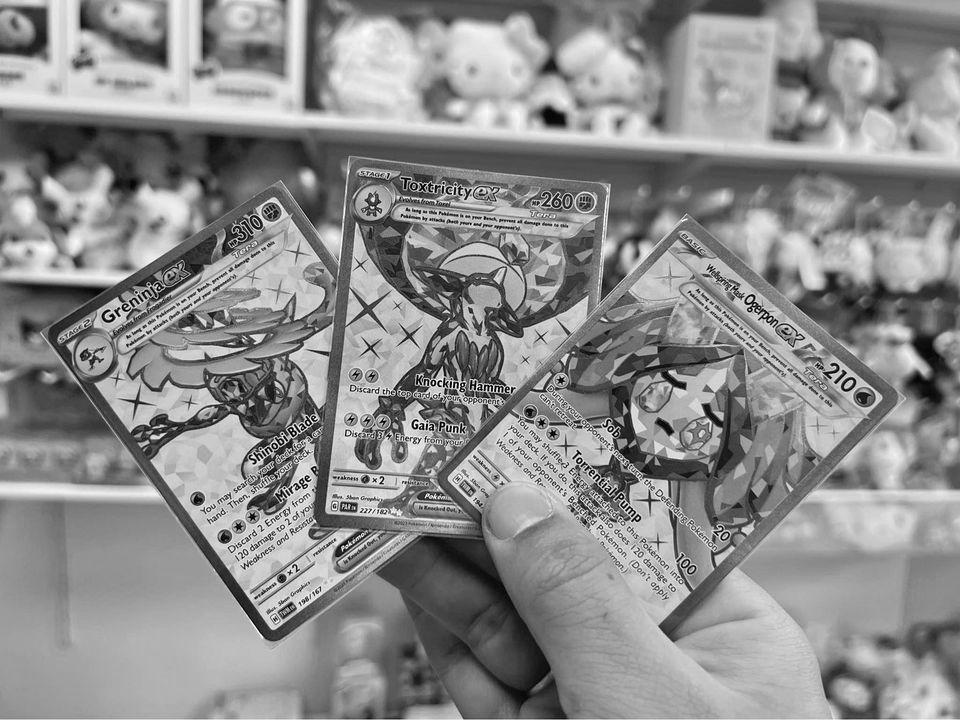card: (438, 220, 899, 635), (45, 184, 424, 643), (314, 159, 608, 539)
